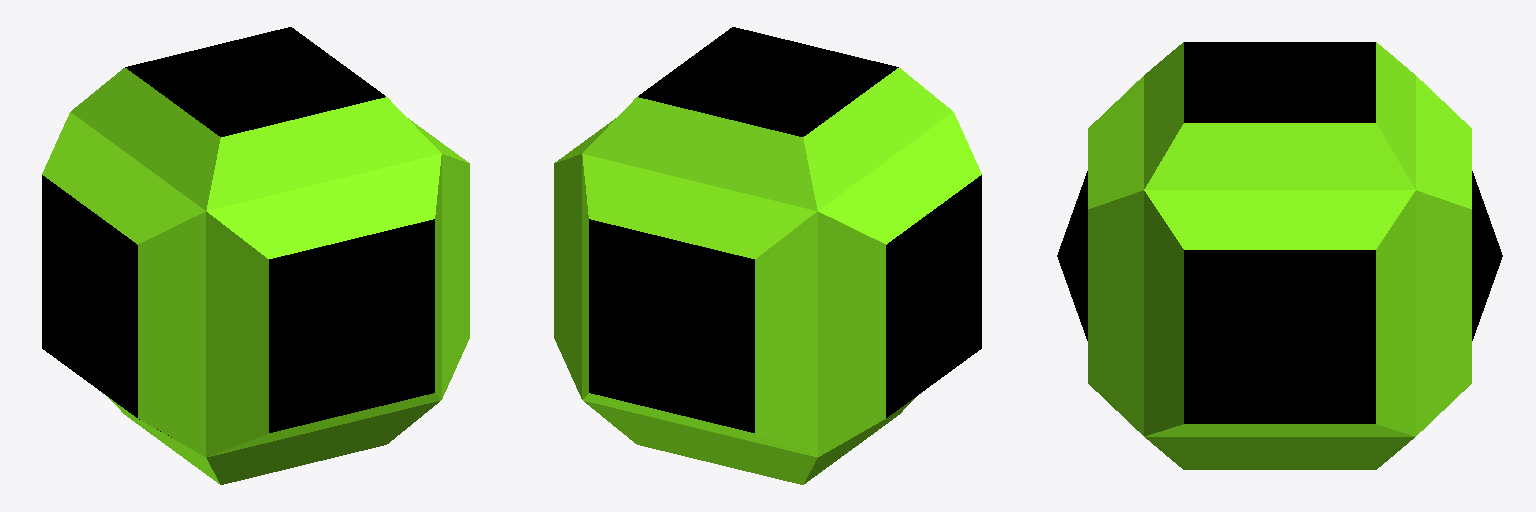
3 views of the same model, side by side, from view 1: azimuth 30°, elevation 25°; view 2: azimuth 150°, elevation 25°; view 3: azimuth 270°, elevation 25° (orthographic).
Visible parts, largest first — view 1: 立方体; view 2: 立方体; view 3: 立方体.
Boxes of the visible parts, <box> form: 立方体: <box>42,27,469,484</box>; 立方体: <box>554,27,981,484</box>; 立方体: <box>1057,42,1502,469</box>.
Bounding box in the file's own units: 3.28 × 3.28 × 3.28.
Materials: 1 (1 with a texture image).